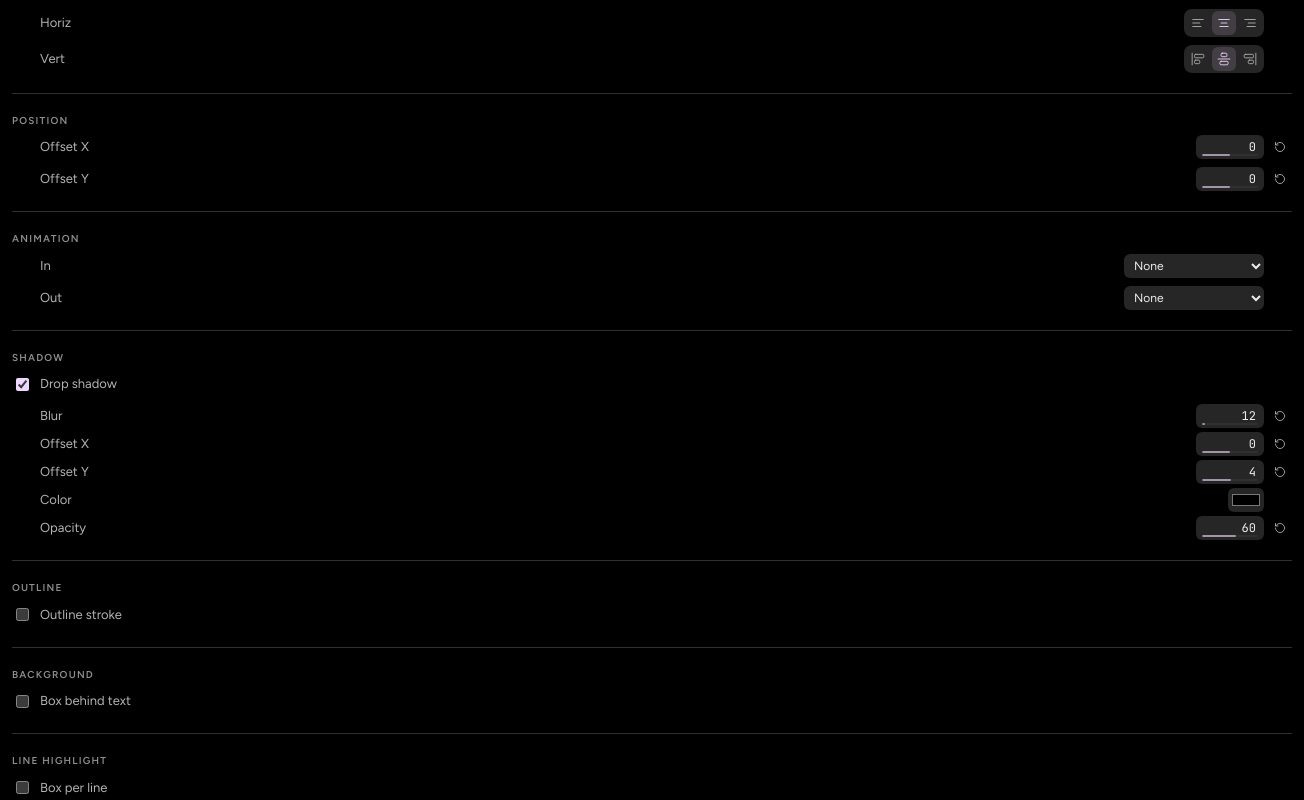
the Line highlight section › the switch turns it on at the TikTok measures in white, and off again clears the field
Later steps or results of the test are not shown.
(page scrolled)
Click the checkbox with test id "title-linebox-toggle" at (22,788), box [16,781,29,794]
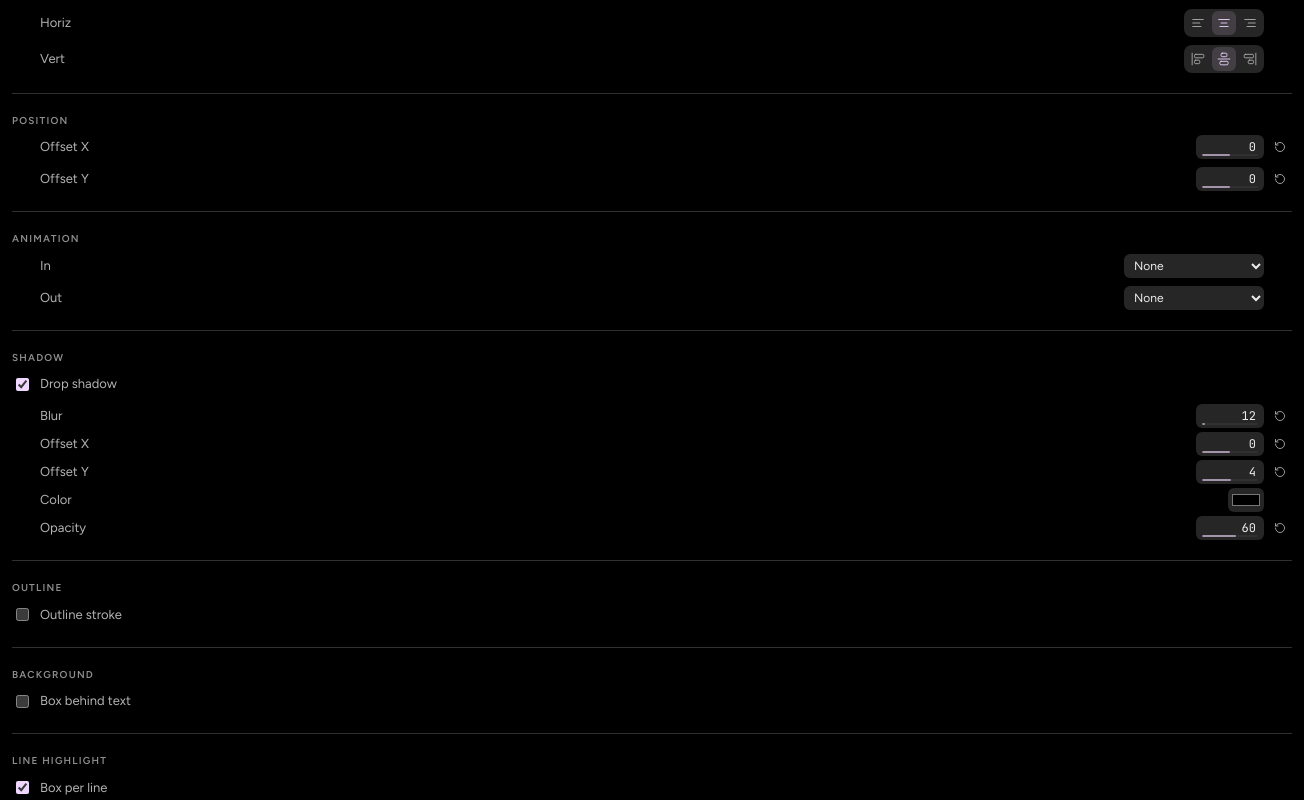
Check: the checkbox with test id "title-linebox-toggle" is checked, box [16,781,29,794]
